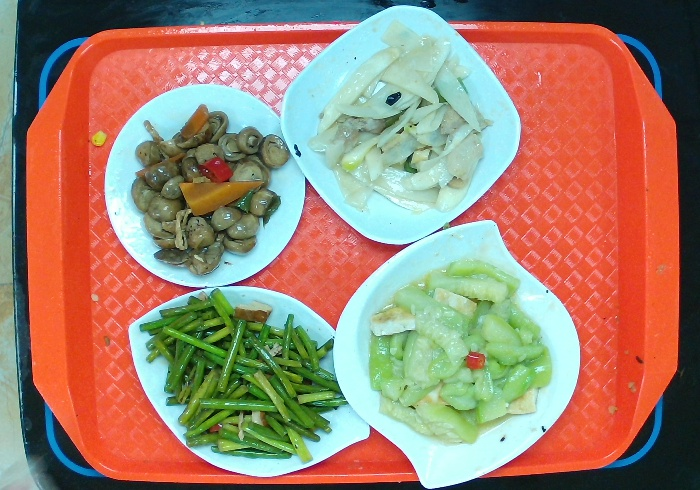RJxy-Da_Du_Pan: (125, 286, 377, 489)
RJxy-Shuang_Jiao_Pan: (329, 218, 584, 490)
RJxy-Si_Fang_Wan: (277, 2, 527, 250)
RJxy-Xiao_Yuan_Die: (101, 81, 308, 293)
